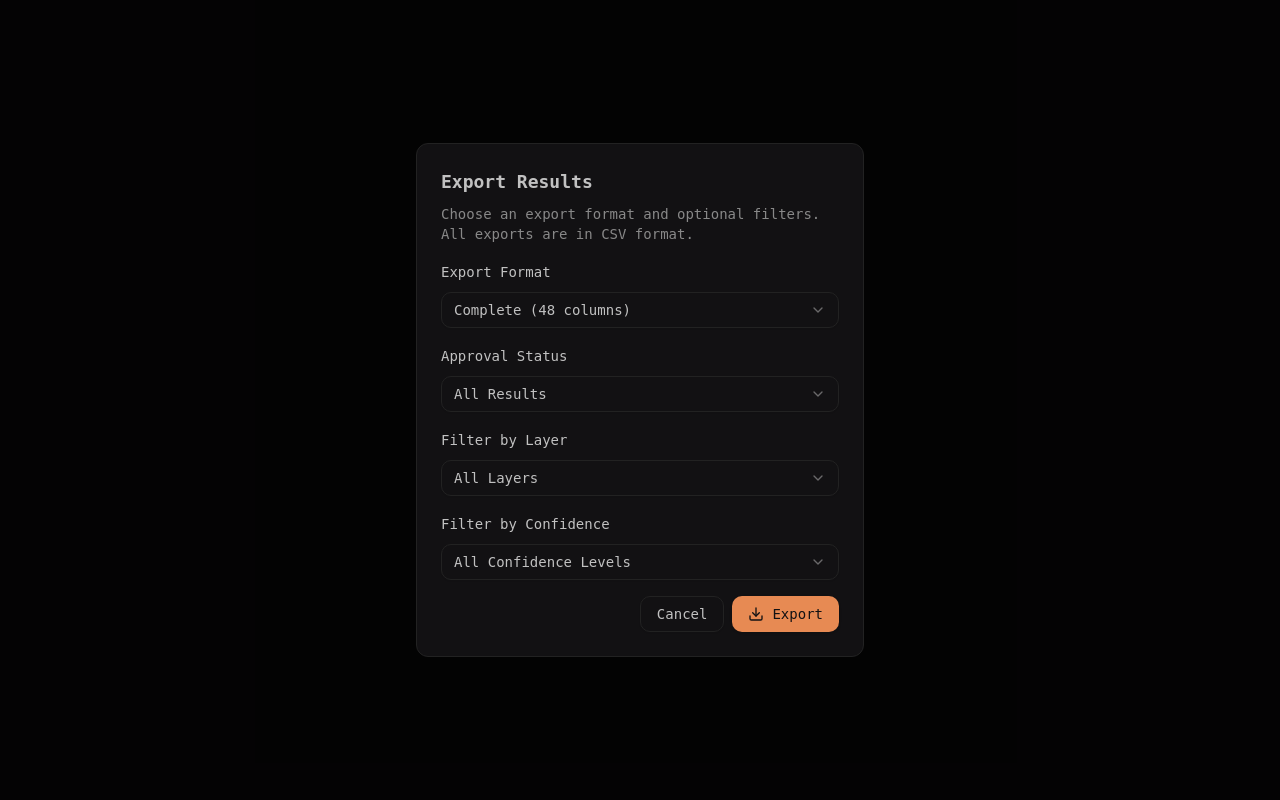
Test case: ExportDialog Component - TDD Test Suite › Format Selection › T069-7: User can select different format
The width and height of the screenshot is (1280, 800).
Click the dropdown named "export format" at point(543, 310), box [441,292,839,328]
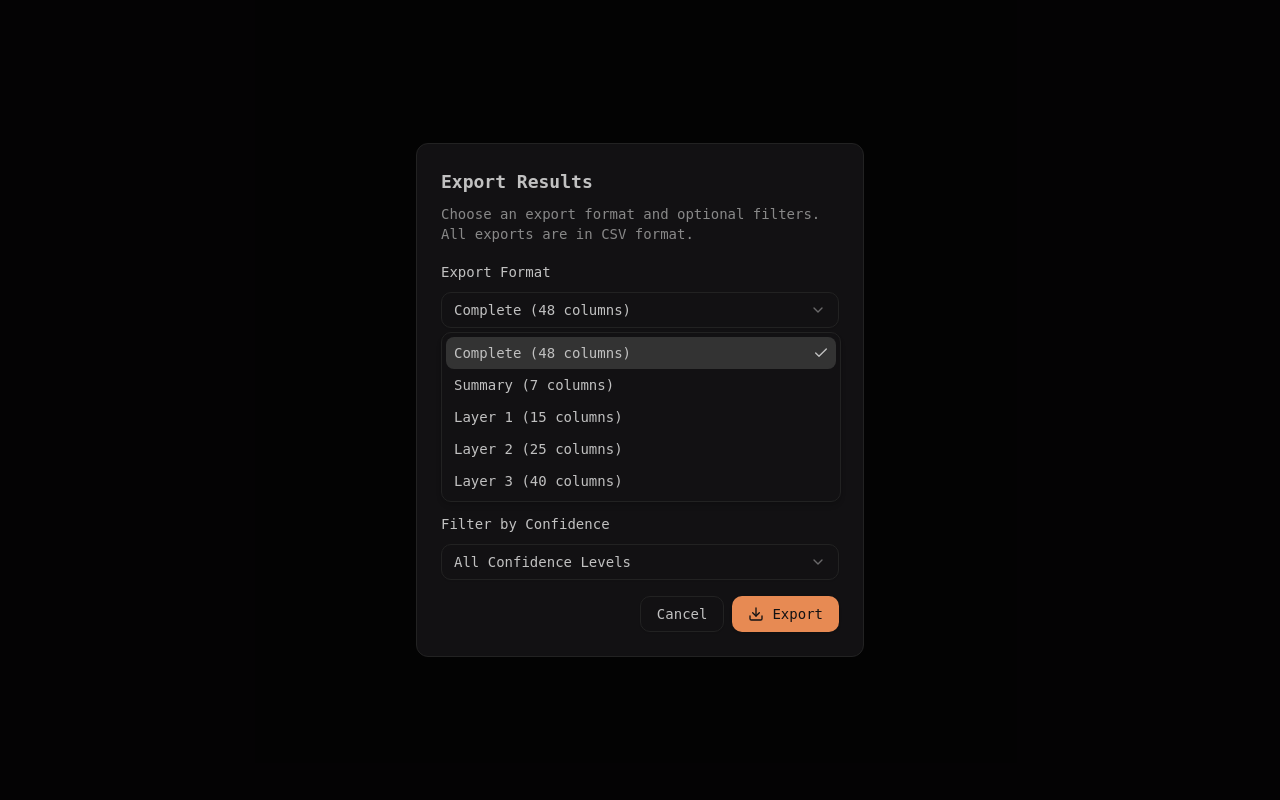
Click the option "Summary (7 columns)" at point(534, 385), box [454,377,614,393]
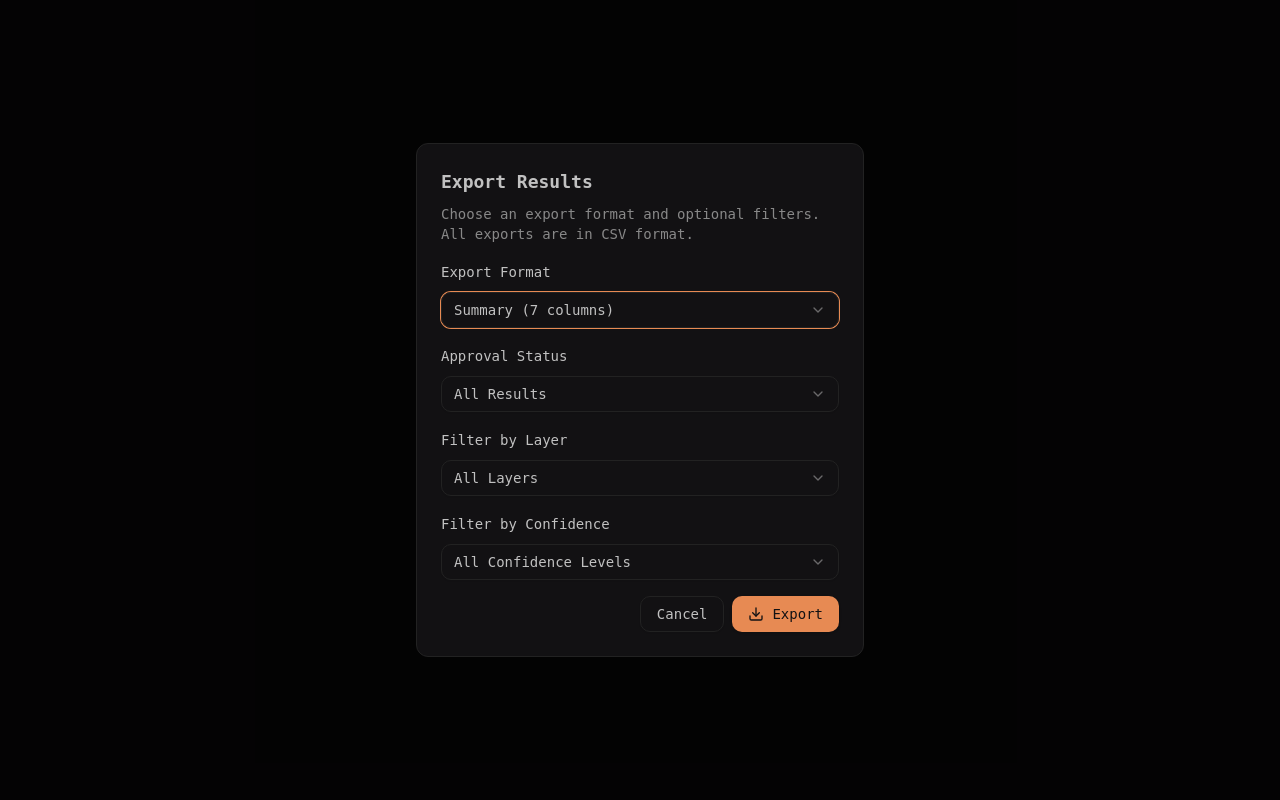
Now the dropdown named "export format" reads "Summary (7 columns)", box [441,292,839,328]
